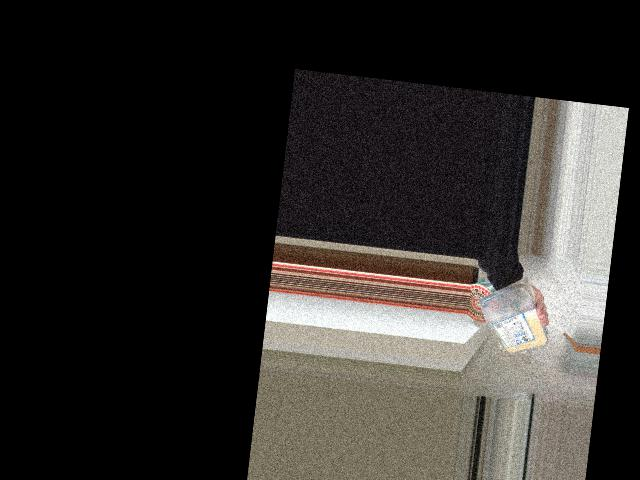cheese: (475, 283, 543, 359)
